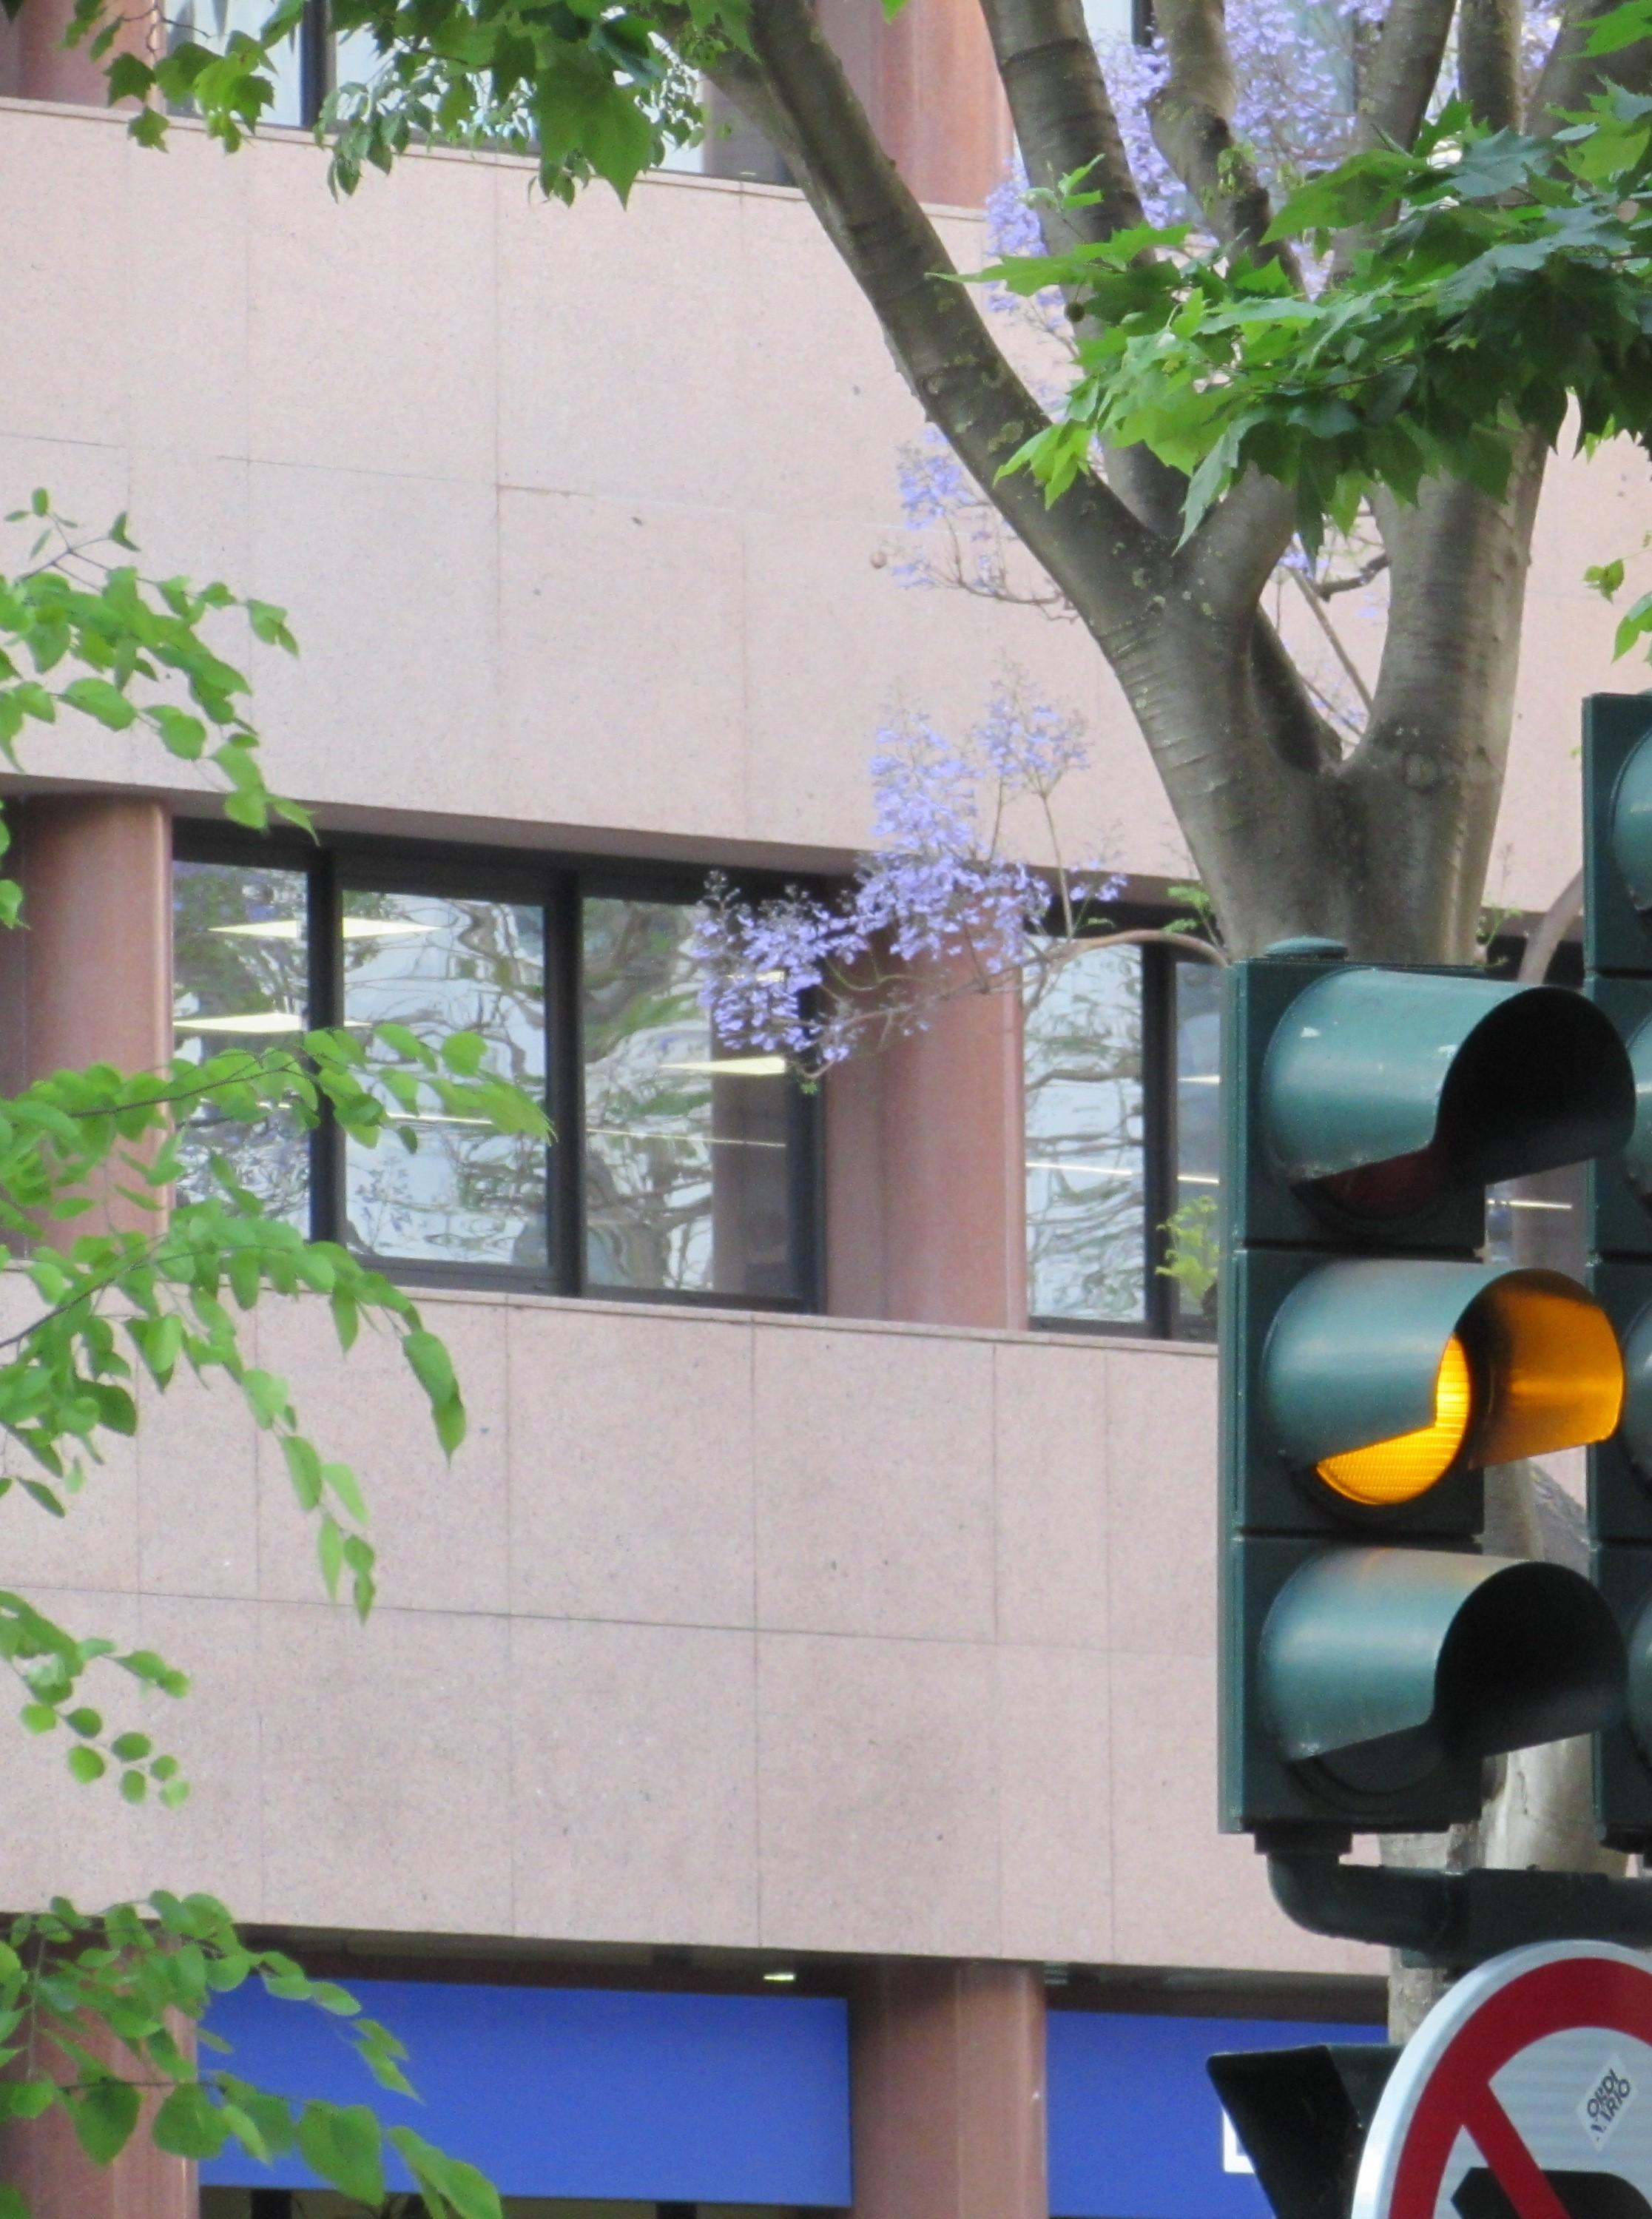yellow_light: (1225, 954, 1635, 1836)
